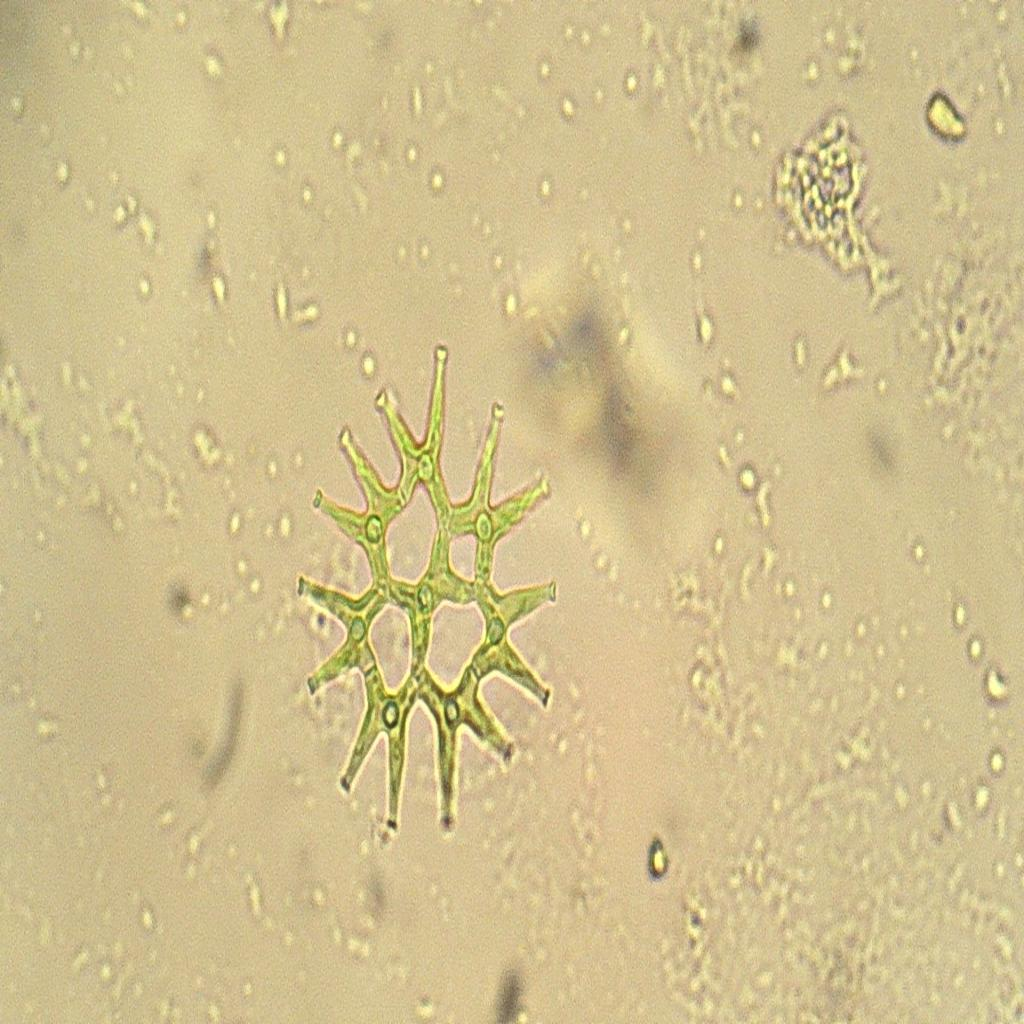Pediastrum_75T: (280, 333, 575, 857)
